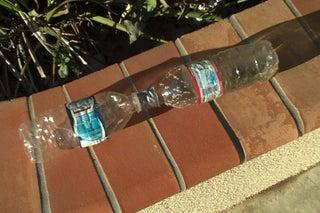bottle: (147, 34, 278, 133), (17, 80, 145, 173)
